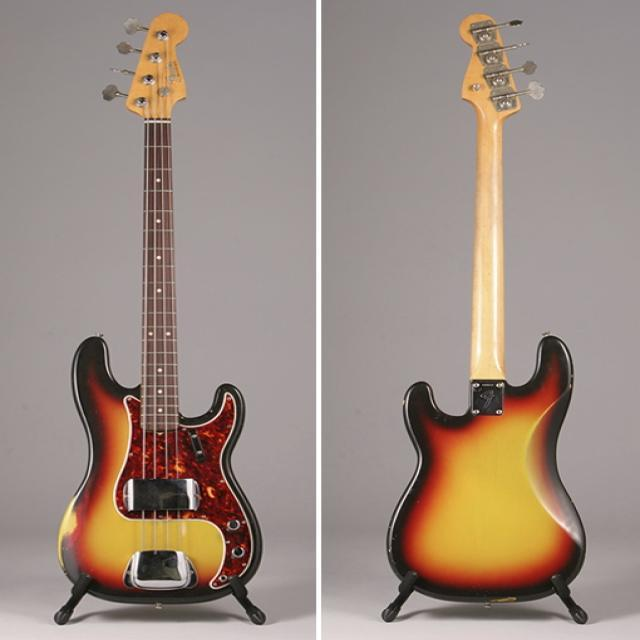bass: (55, 13, 264, 623), (382, 14, 586, 623)
